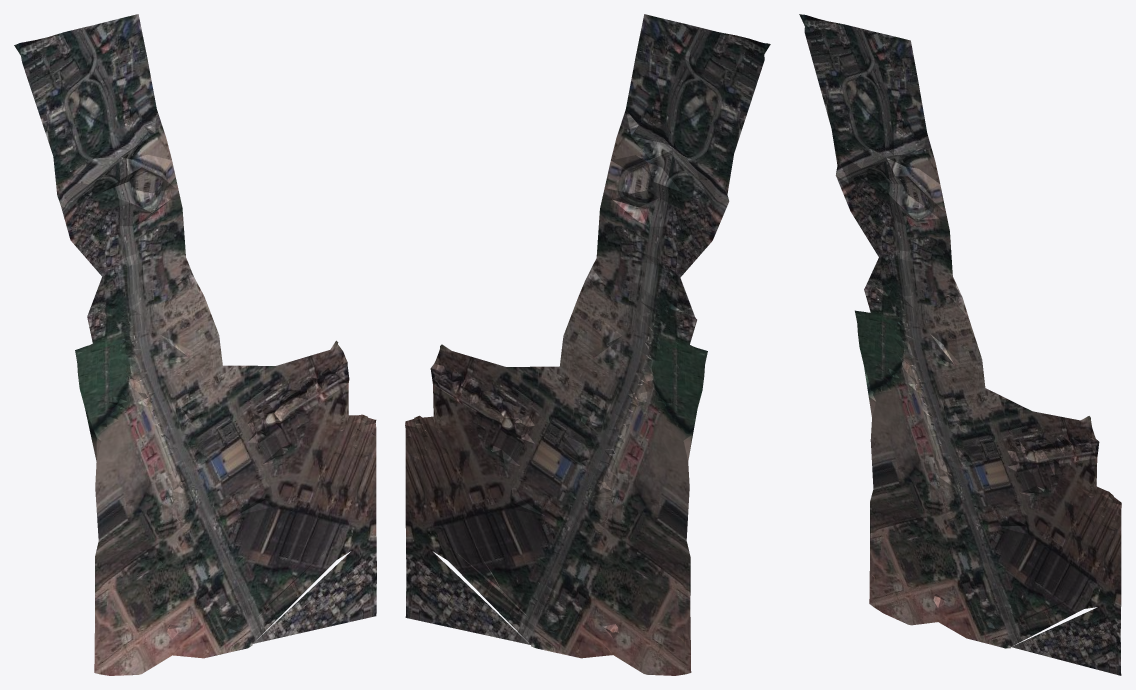
3 views of the same model, side by side, from view 1: azimuth 30°, elevation 25°; view 2: azimuth 150°, elevation 25°; view 3: azimuth 330°, elevation 25° (orthographic). The views are drawn at different scales.
Visible parts, largest first — view 1: 0_3_3_1; view 2: 0_3_3_1; view 3: 0_3_3_1.
Part boxes in pixels (left/top/right/bottom): 0_3_3_1: left=14, top=14, right=376, bottom=675; 0_3_3_1: left=405, top=14, right=770, bottom=675; 0_3_3_1: left=799, top=14, right=1121, bottom=675.
Size of the model in its own units: 934 by 1621 by 34.2.
Materials: 1 (1 with a texture image).
